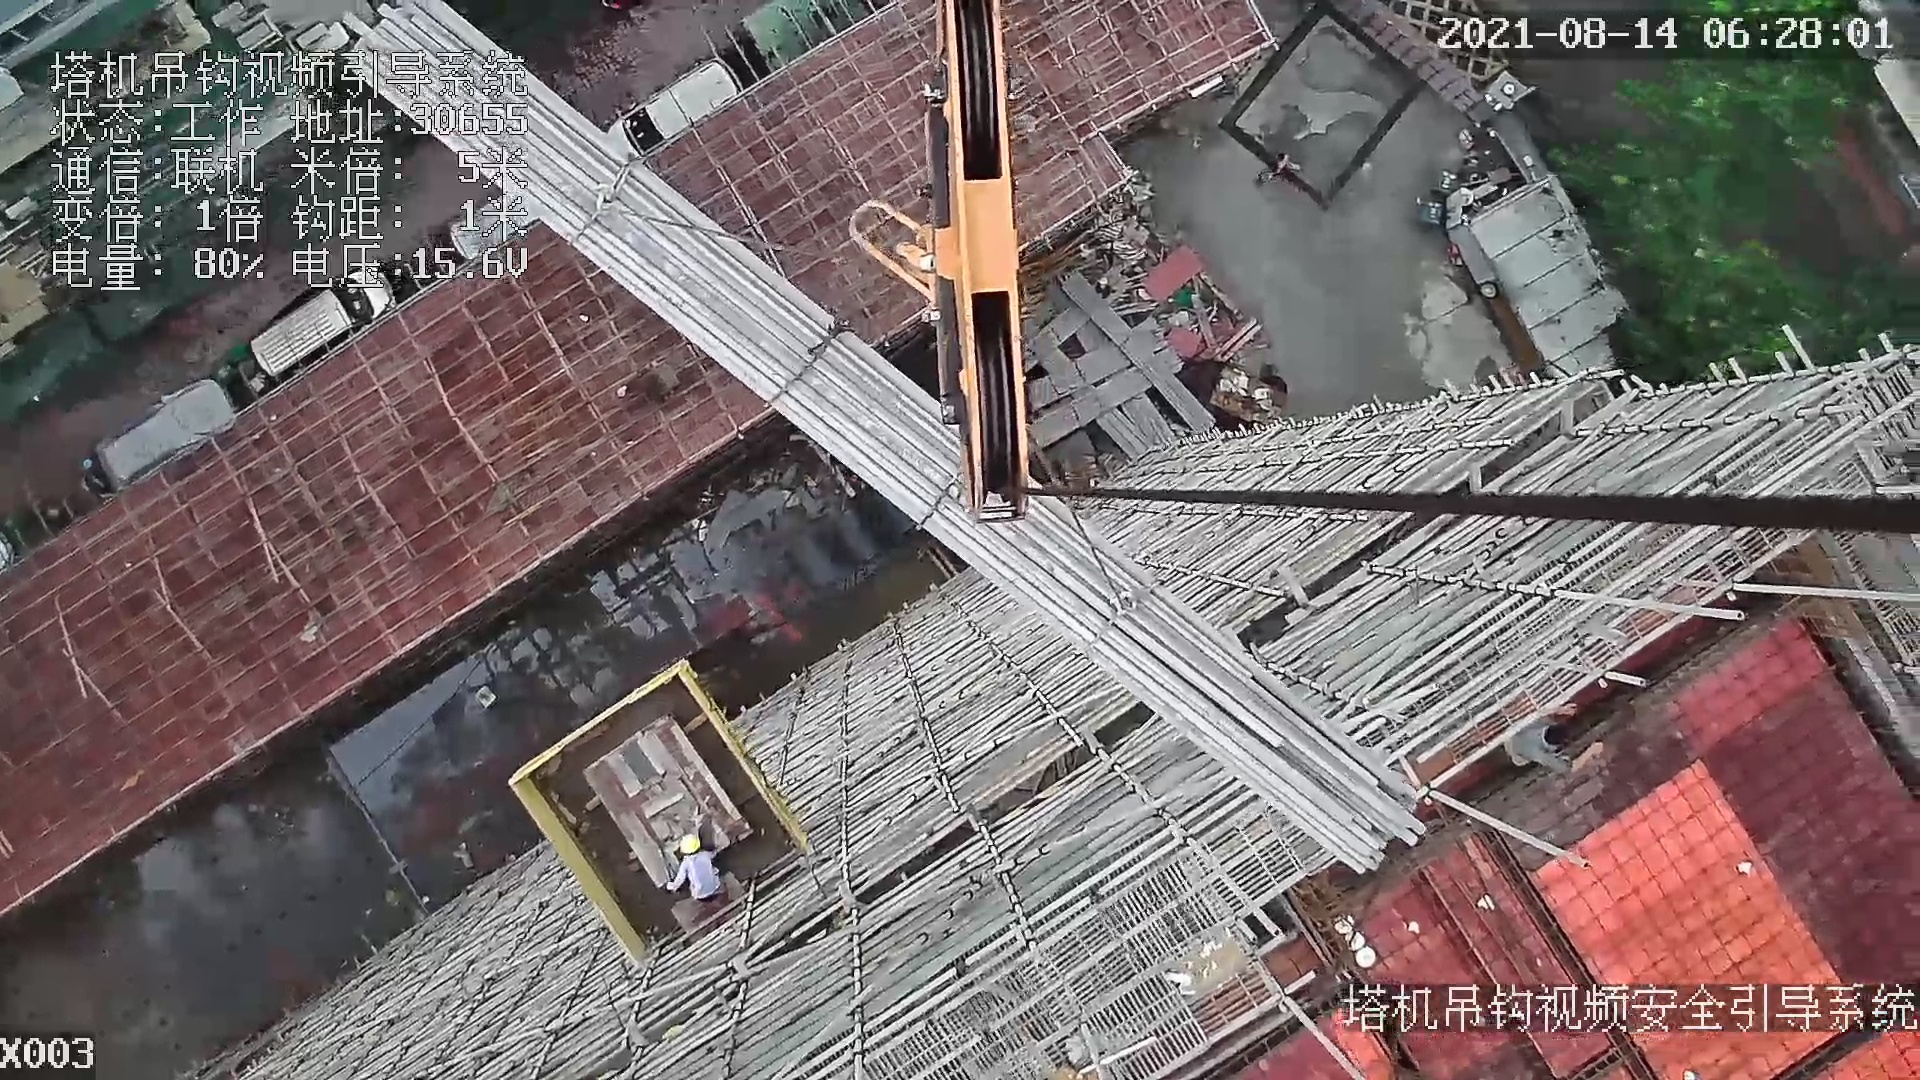helmet: (664, 832, 714, 858)
hook: (915, 1, 1033, 525)
person: (662, 827, 747, 904)
